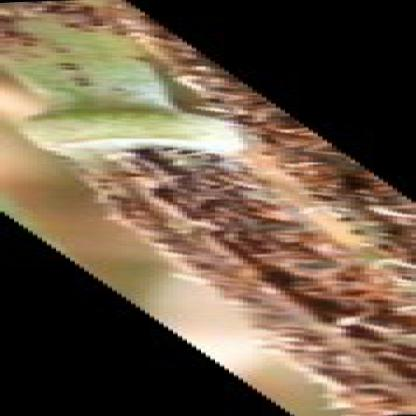wheat Stem Rust: (81, 142, 329, 185), (116, 193, 416, 218), (133, 223, 406, 245), (150, 252, 415, 273), (0, 4, 145, 40), (250, 312, 413, 342), (215, 281, 415, 304), (297, 349, 415, 382), (314, 388, 416, 416), (197, 93, 273, 128), (150, 56, 216, 82)
